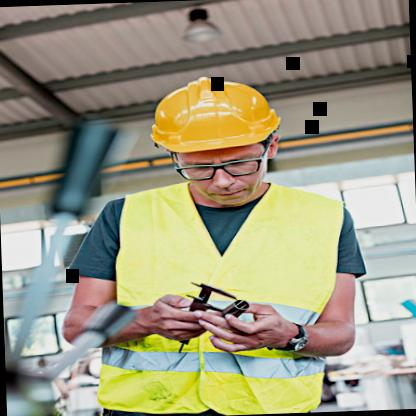helmet: (128, 58, 298, 213)
